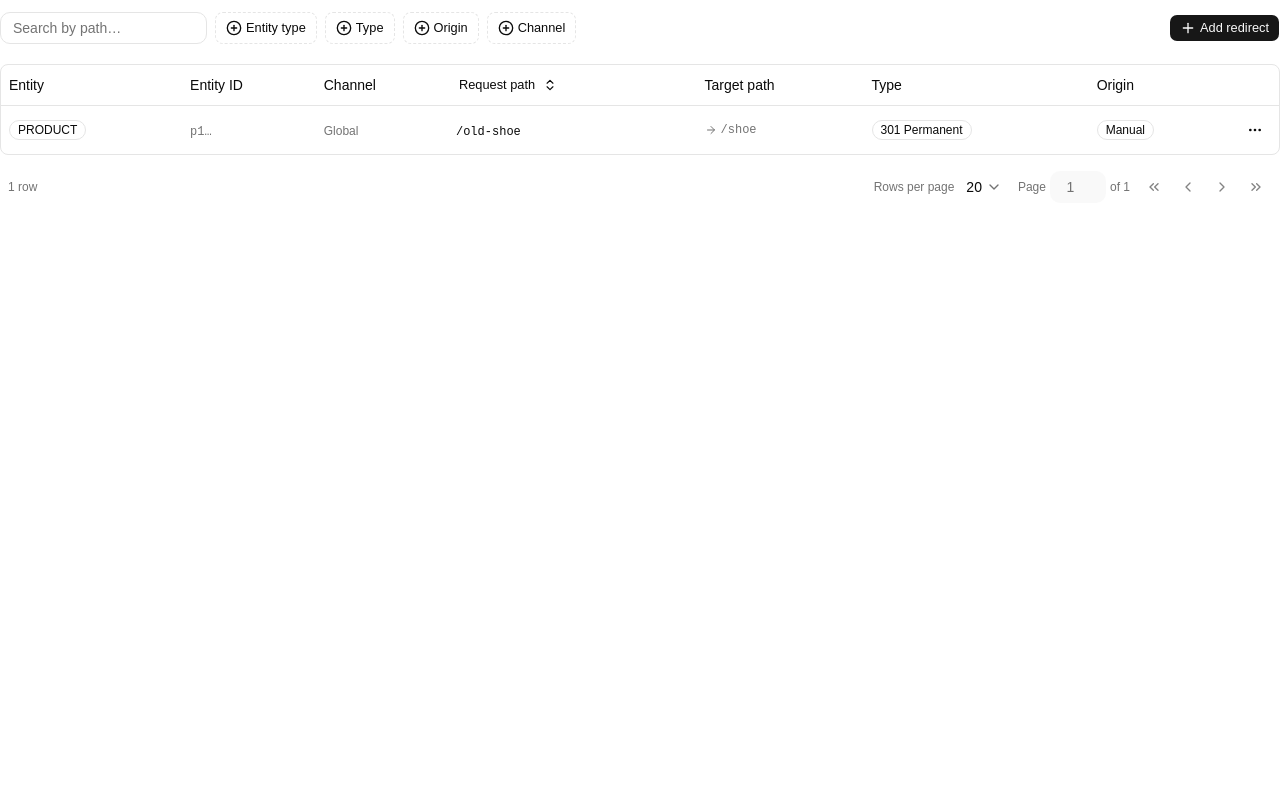
Test: UrlRewritesListPage delete › keeps the dialog open and shows a refused delete
Press the mouse on the button named "Actions for /old-shoe" at (1255, 130), box [1239,114,1271,146]
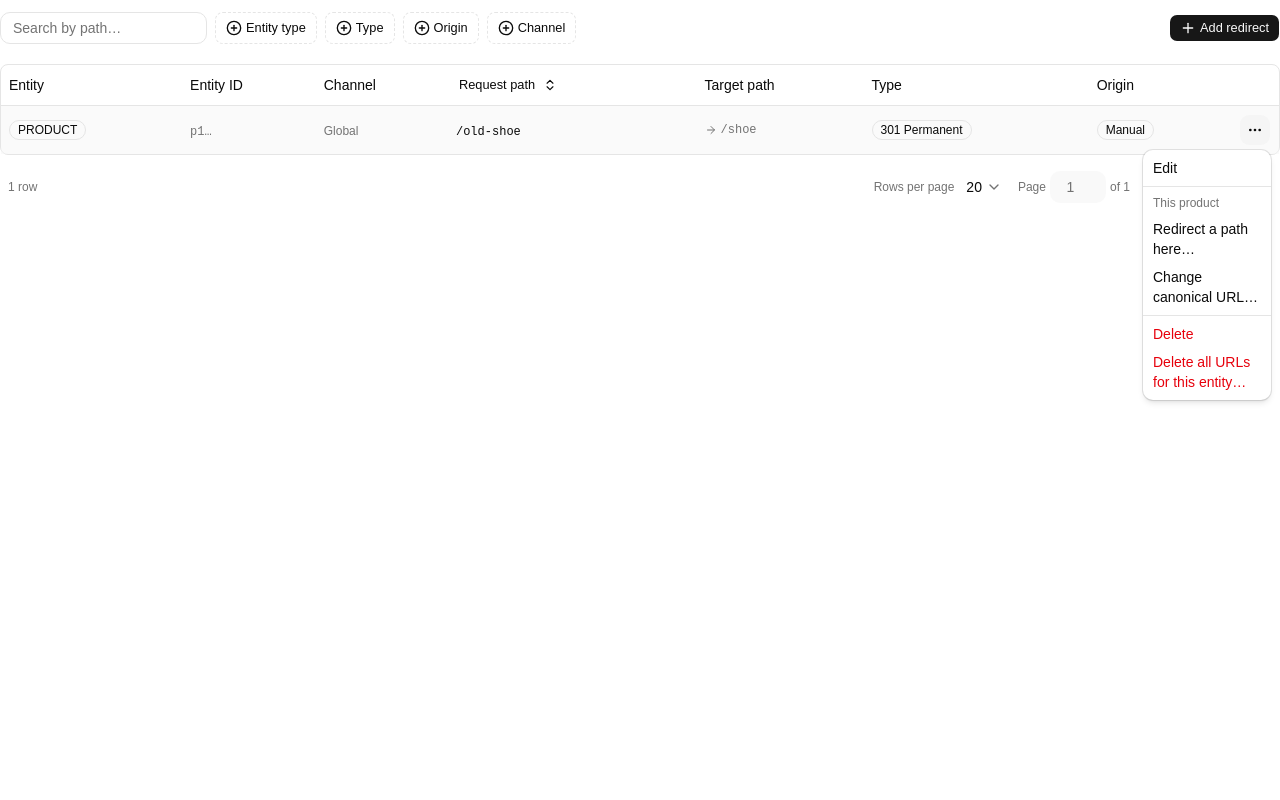
Check: the menu item "Delete" is shown
Click the menu item "Delete".
click(1173, 334)  # box [1153,326,1194,342]
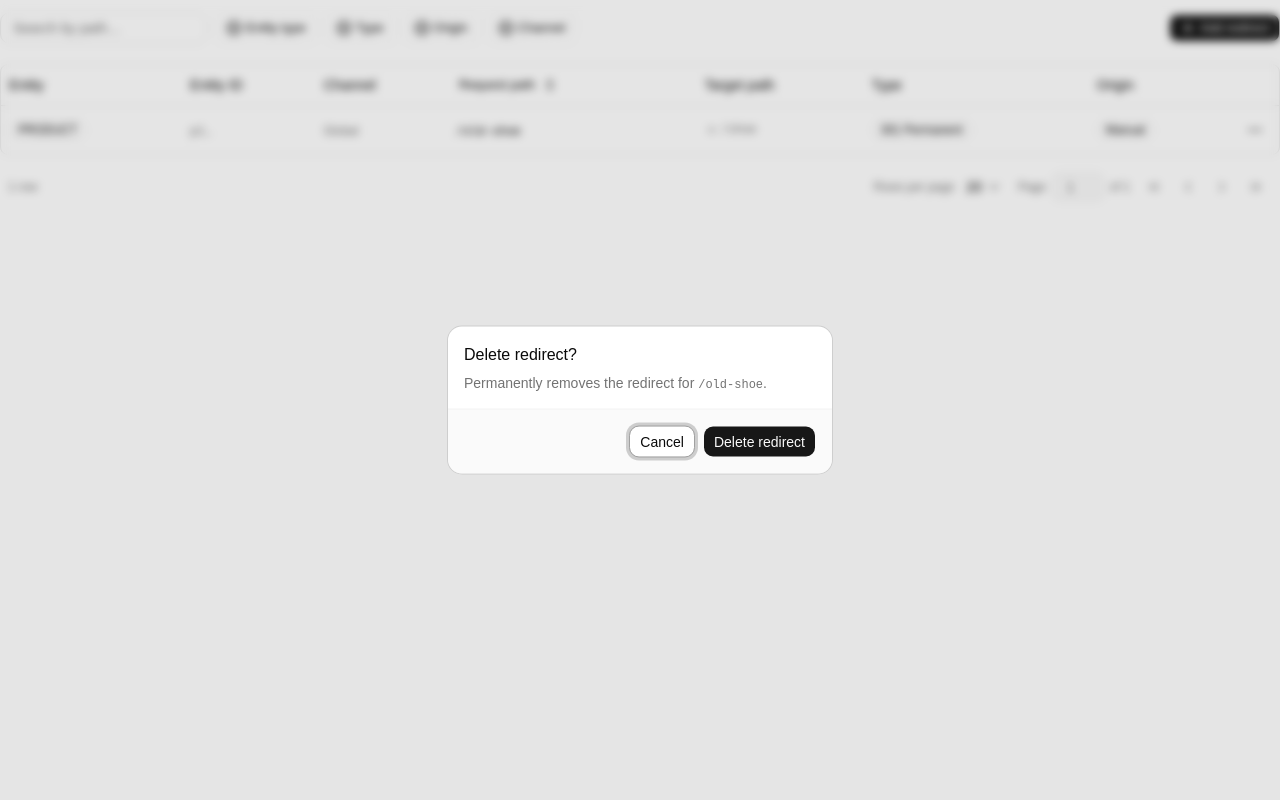
Click the button "Delete redirect".
click(760, 442)  # box [703,426,816,458]
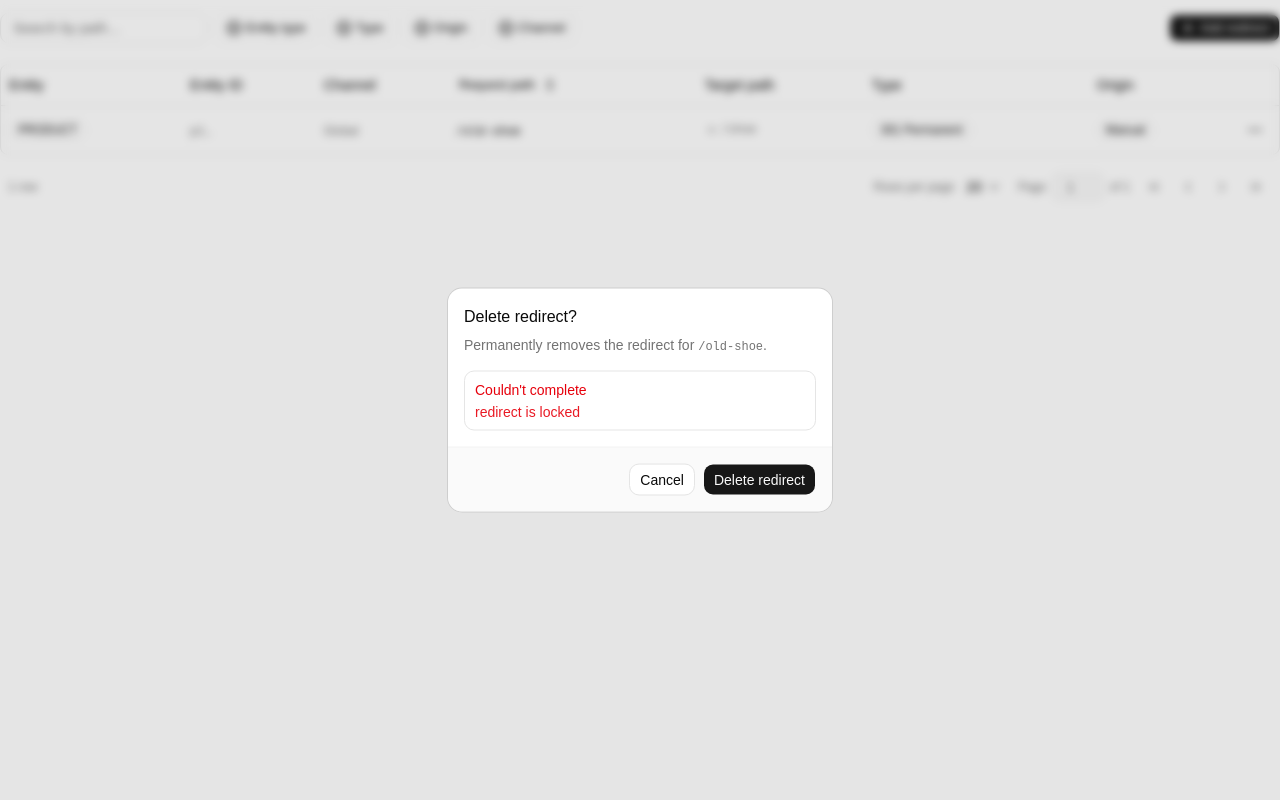
Check: the text "redirect is locked" is shown, box [475,404,580,420]
